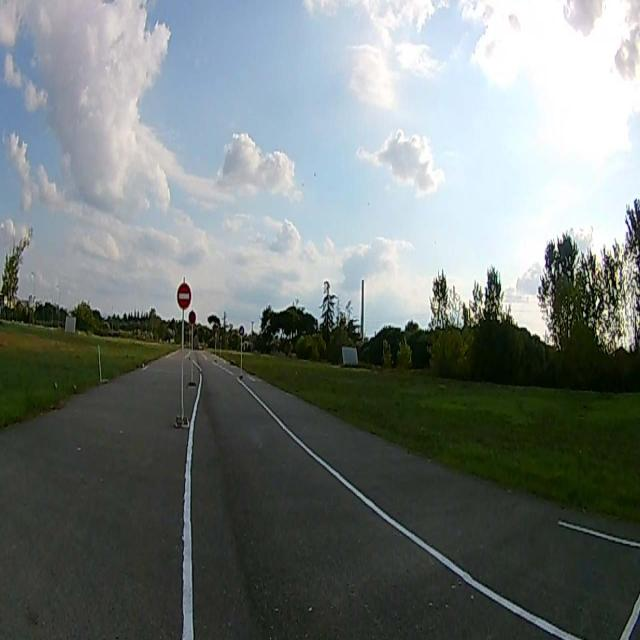girisyok: (177, 284, 191, 309)
